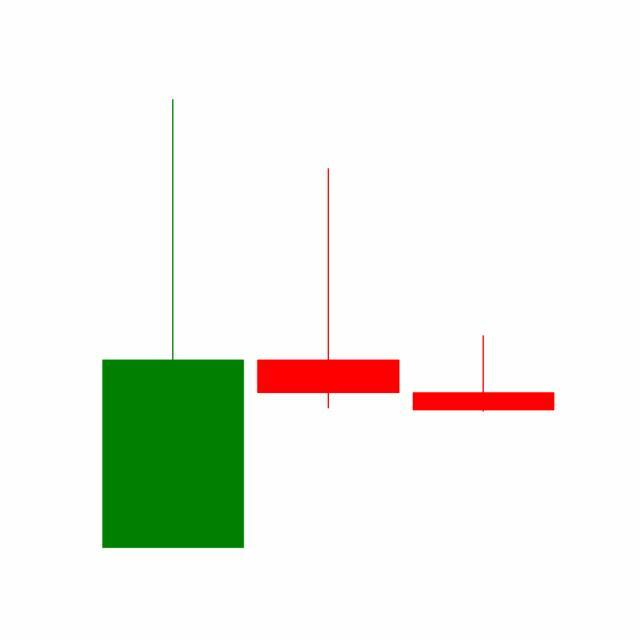Gravestone Doji: (406, 335, 562, 413)
